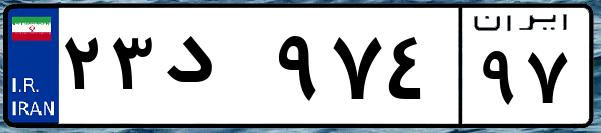2: (57, 26, 110, 100)
3: (110, 28, 158, 98)
4: (385, 28, 445, 110)
7: (330, 28, 385, 110), (525, 38, 570, 115)
9: (270, 28, 330, 110), (475, 38, 525, 113)
د: (158, 20, 270, 120)
